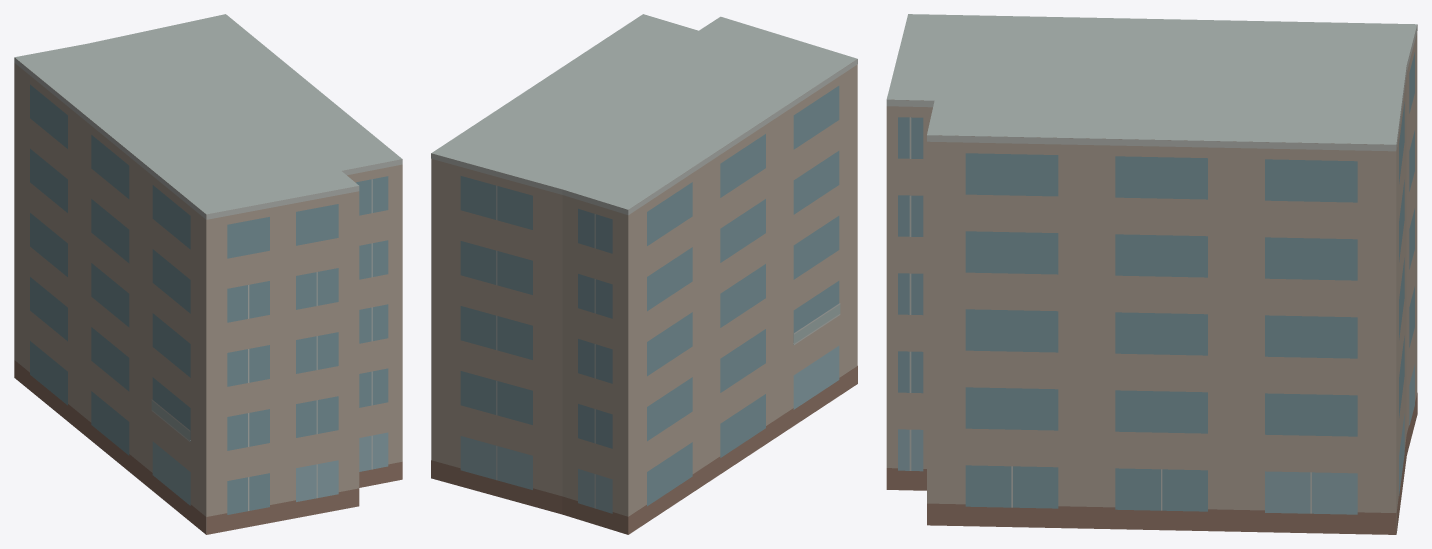
File: survey-upis-32761280.glb
3 views of the same model, side by side, from view 1: azimuth 30°, elevation 25°; view 2: azimuth 150°, elevation 25°; view 3: azimuth 270°, elevation 25° (orthographic). The views are drawn at different scales.
Visible parts, largest first — view 1: survey-upis-32761280.tmp; view 2: survey-upis-32761280.tmp; view 3: survey-upis-32761280.tmp.
Part boxes in pixels (x1,y1,x2,y2): survey-upis-32761280.tmp: (14,14,402,534); survey-upis-32761280.tmp: (431,14,857,534); survey-upis-32761280.tmp: (886,14,1417,534).
Size of the model in its own units: 10.36 by 14.4 by 17.77.
